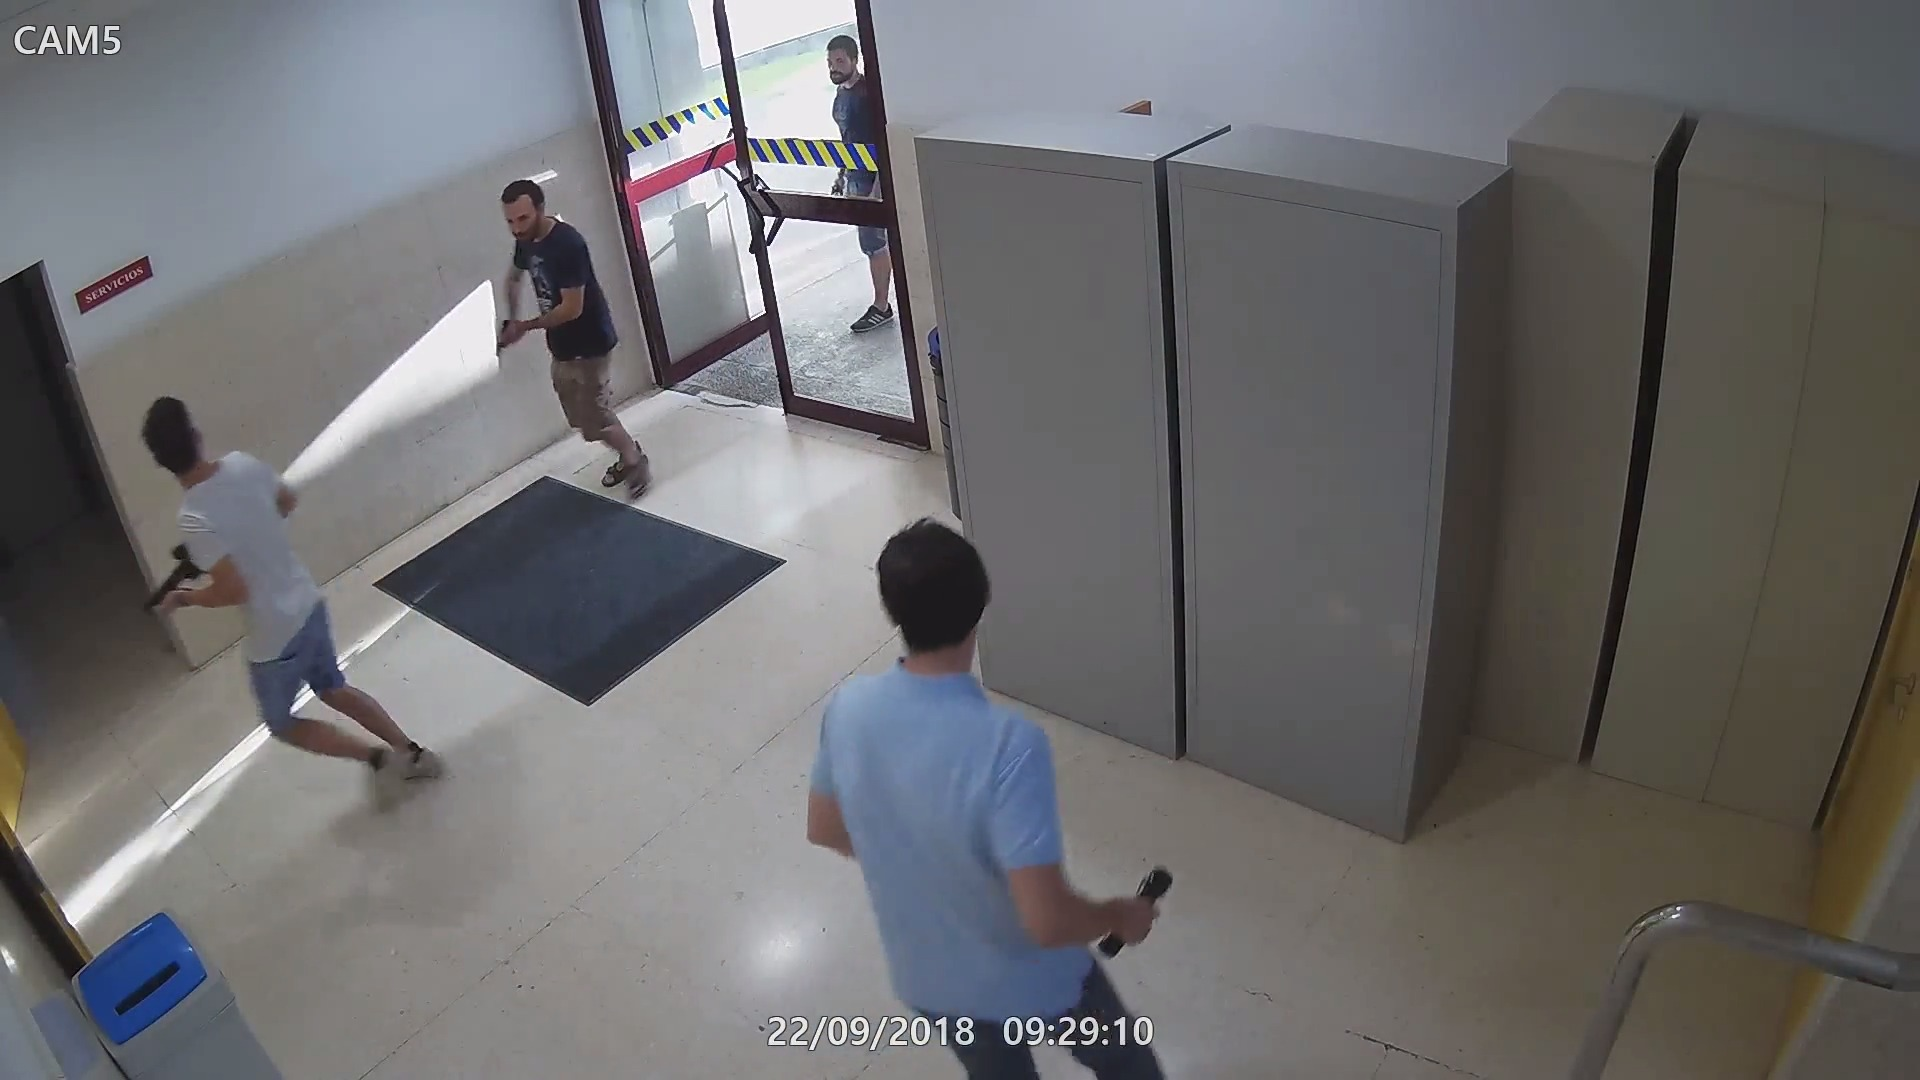Handgun: (493, 311, 527, 357), (829, 183, 841, 199)
Short_rifle: (140, 547, 210, 626)
